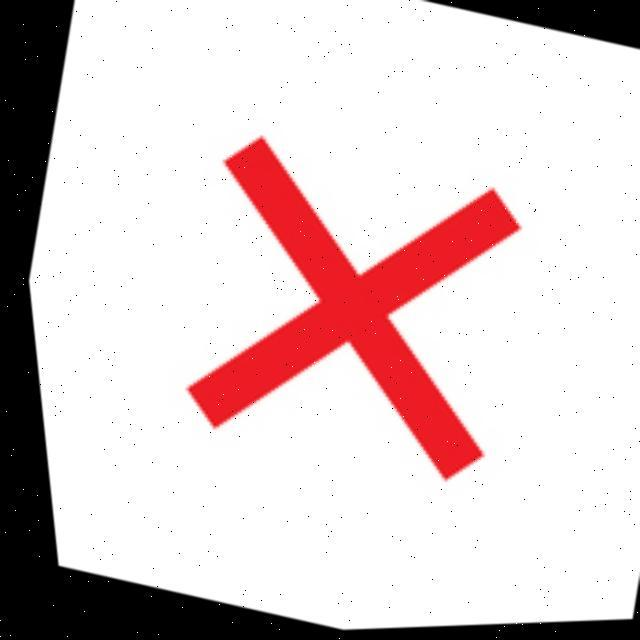cross: (176, 107, 547, 531)
